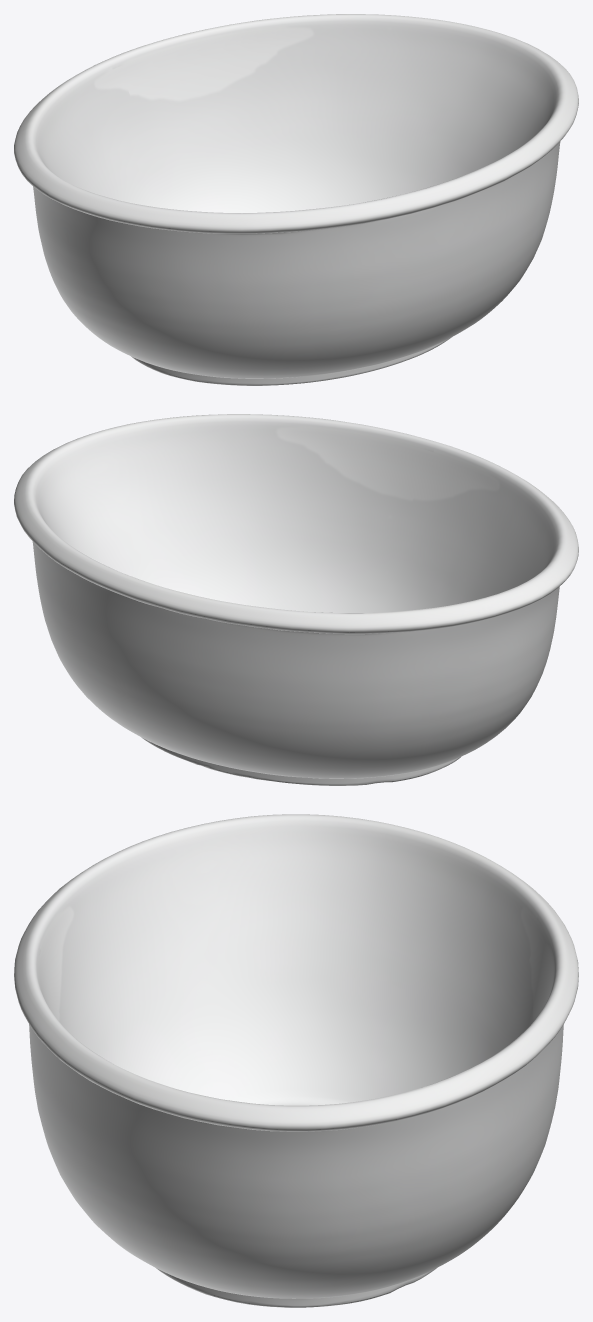
Rendered from bowl.glb.
3 views of the same model, one above another, from view 1: azimuth 30°, elevation 25°; view 2: azimuth 150°, elevation 25°; view 3: azimuth 270°, elevation 25° (orthographic). The views are drawn at different scales.
Visible parts, largest first — view 1: model; view 2: model; view 3: model.
Part boxes in pixels (x1,y1,x2,y2): model: (14, 14, 578, 385); model: (14, 414, 578, 785); model: (14, 814, 578, 1307).
Bounding box in the file's own units: 0.262 × 0.1 × 0.2033.
1 material, 1 textured.
